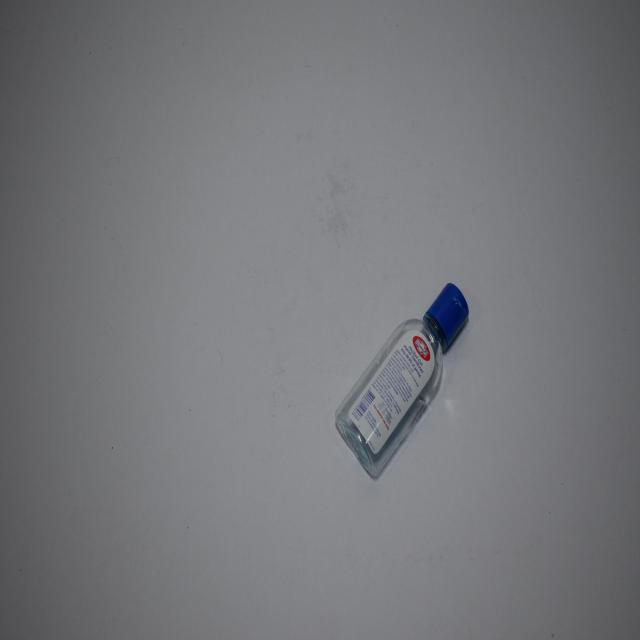empty: (335, 283, 469, 478)
